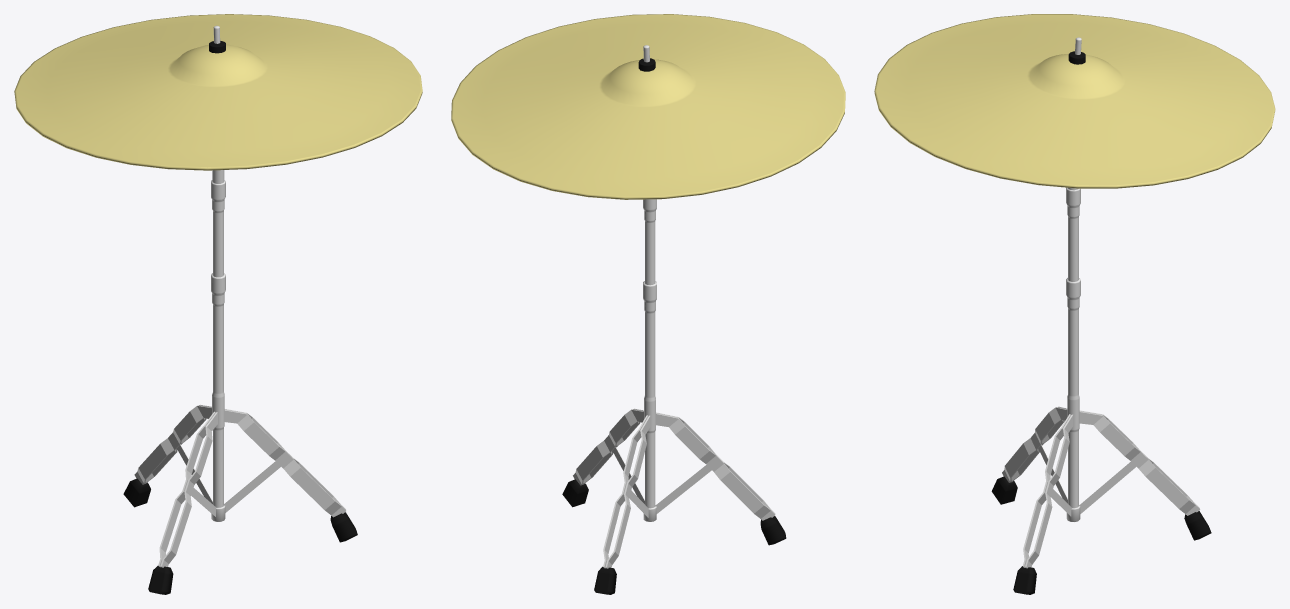
File: Ride.fbx
3 views of the same model, side by side, from view 1: azimuth 30°, elevation 25°; view 2: azimuth 150°, elevation 25°; view 3: azimuth 270°, elevation 25° (orthographic). The views are drawn at different scales.
Parts seen in each view (by area): view 1: Ride_LOD0; view 2: Ride_LOD0; view 3: Ride_LOD0.
Part boxes in pixels (x1,y1,x2,y2): Ride_LOD0: [14, 14, 422, 594]; Ride_LOD0: [451, 14, 845, 594]; Ride_LOD0: [874, 14, 1275, 594].
Size of what is drawn, in the model's own units: 202 by 282 by 202.
